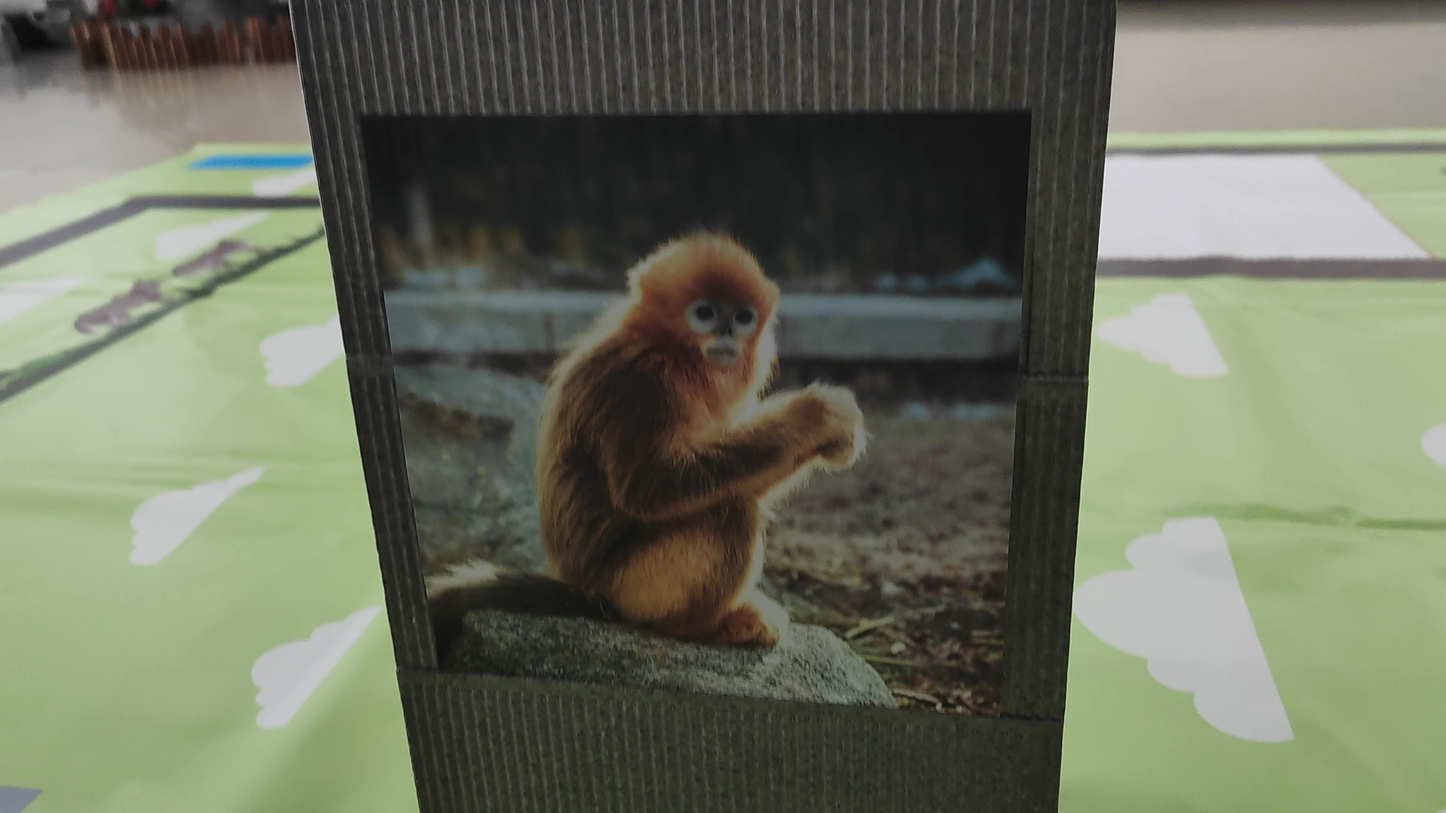monkey: (450, 142, 919, 659)
